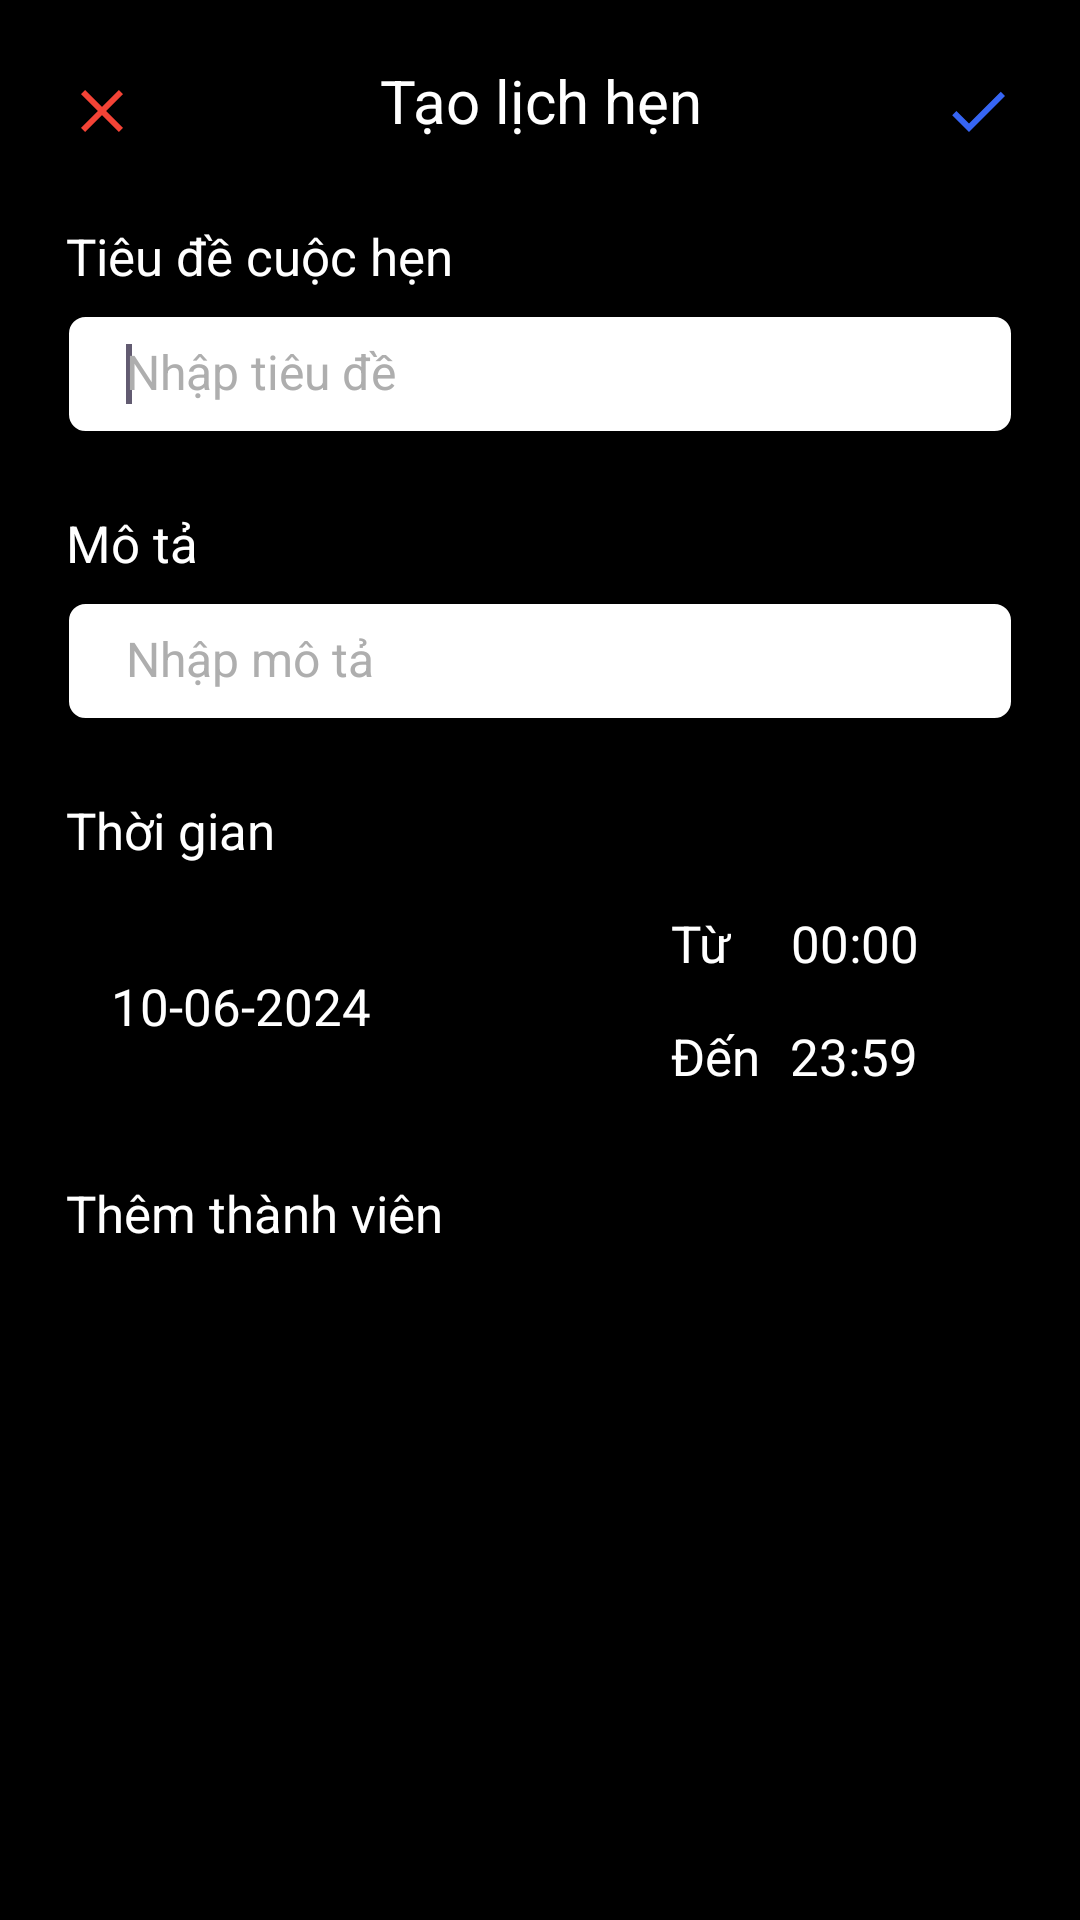

Icons on this 1080*1920 Android screen, each with its box as {"x1": x1, "y1": y1, "x2": x2, "y2": y2}:
close: {"x1": 81, "y1": 90, "x2": 123, "y2": 132}
tick: {"x1": 952, "y1": 92, "x2": 1005, "y2": 132}
